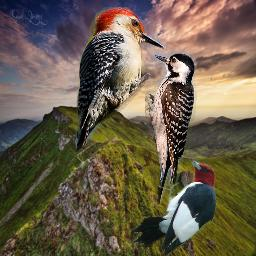Woodpecker: (76, 7, 169, 152), (129, 157, 216, 256), (145, 49, 197, 210)
